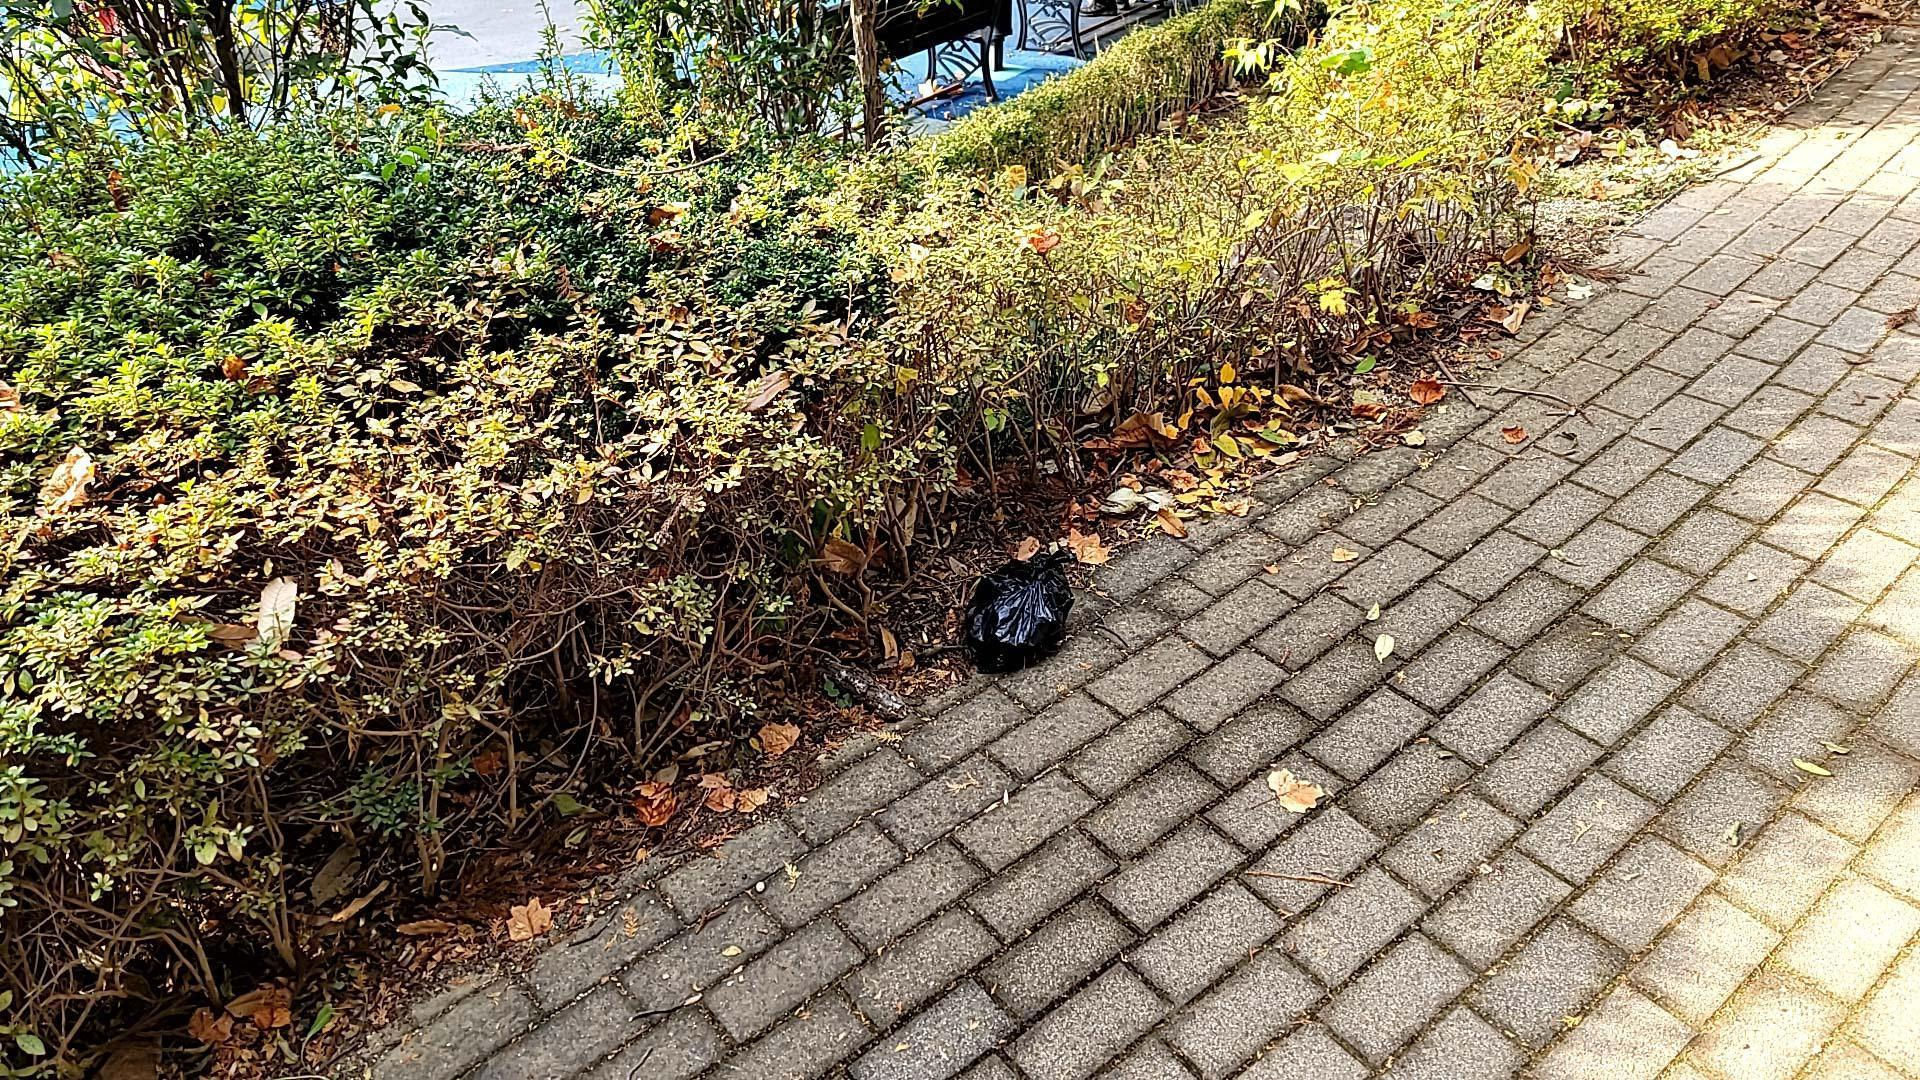black_bag: (953, 545, 1077, 673)
